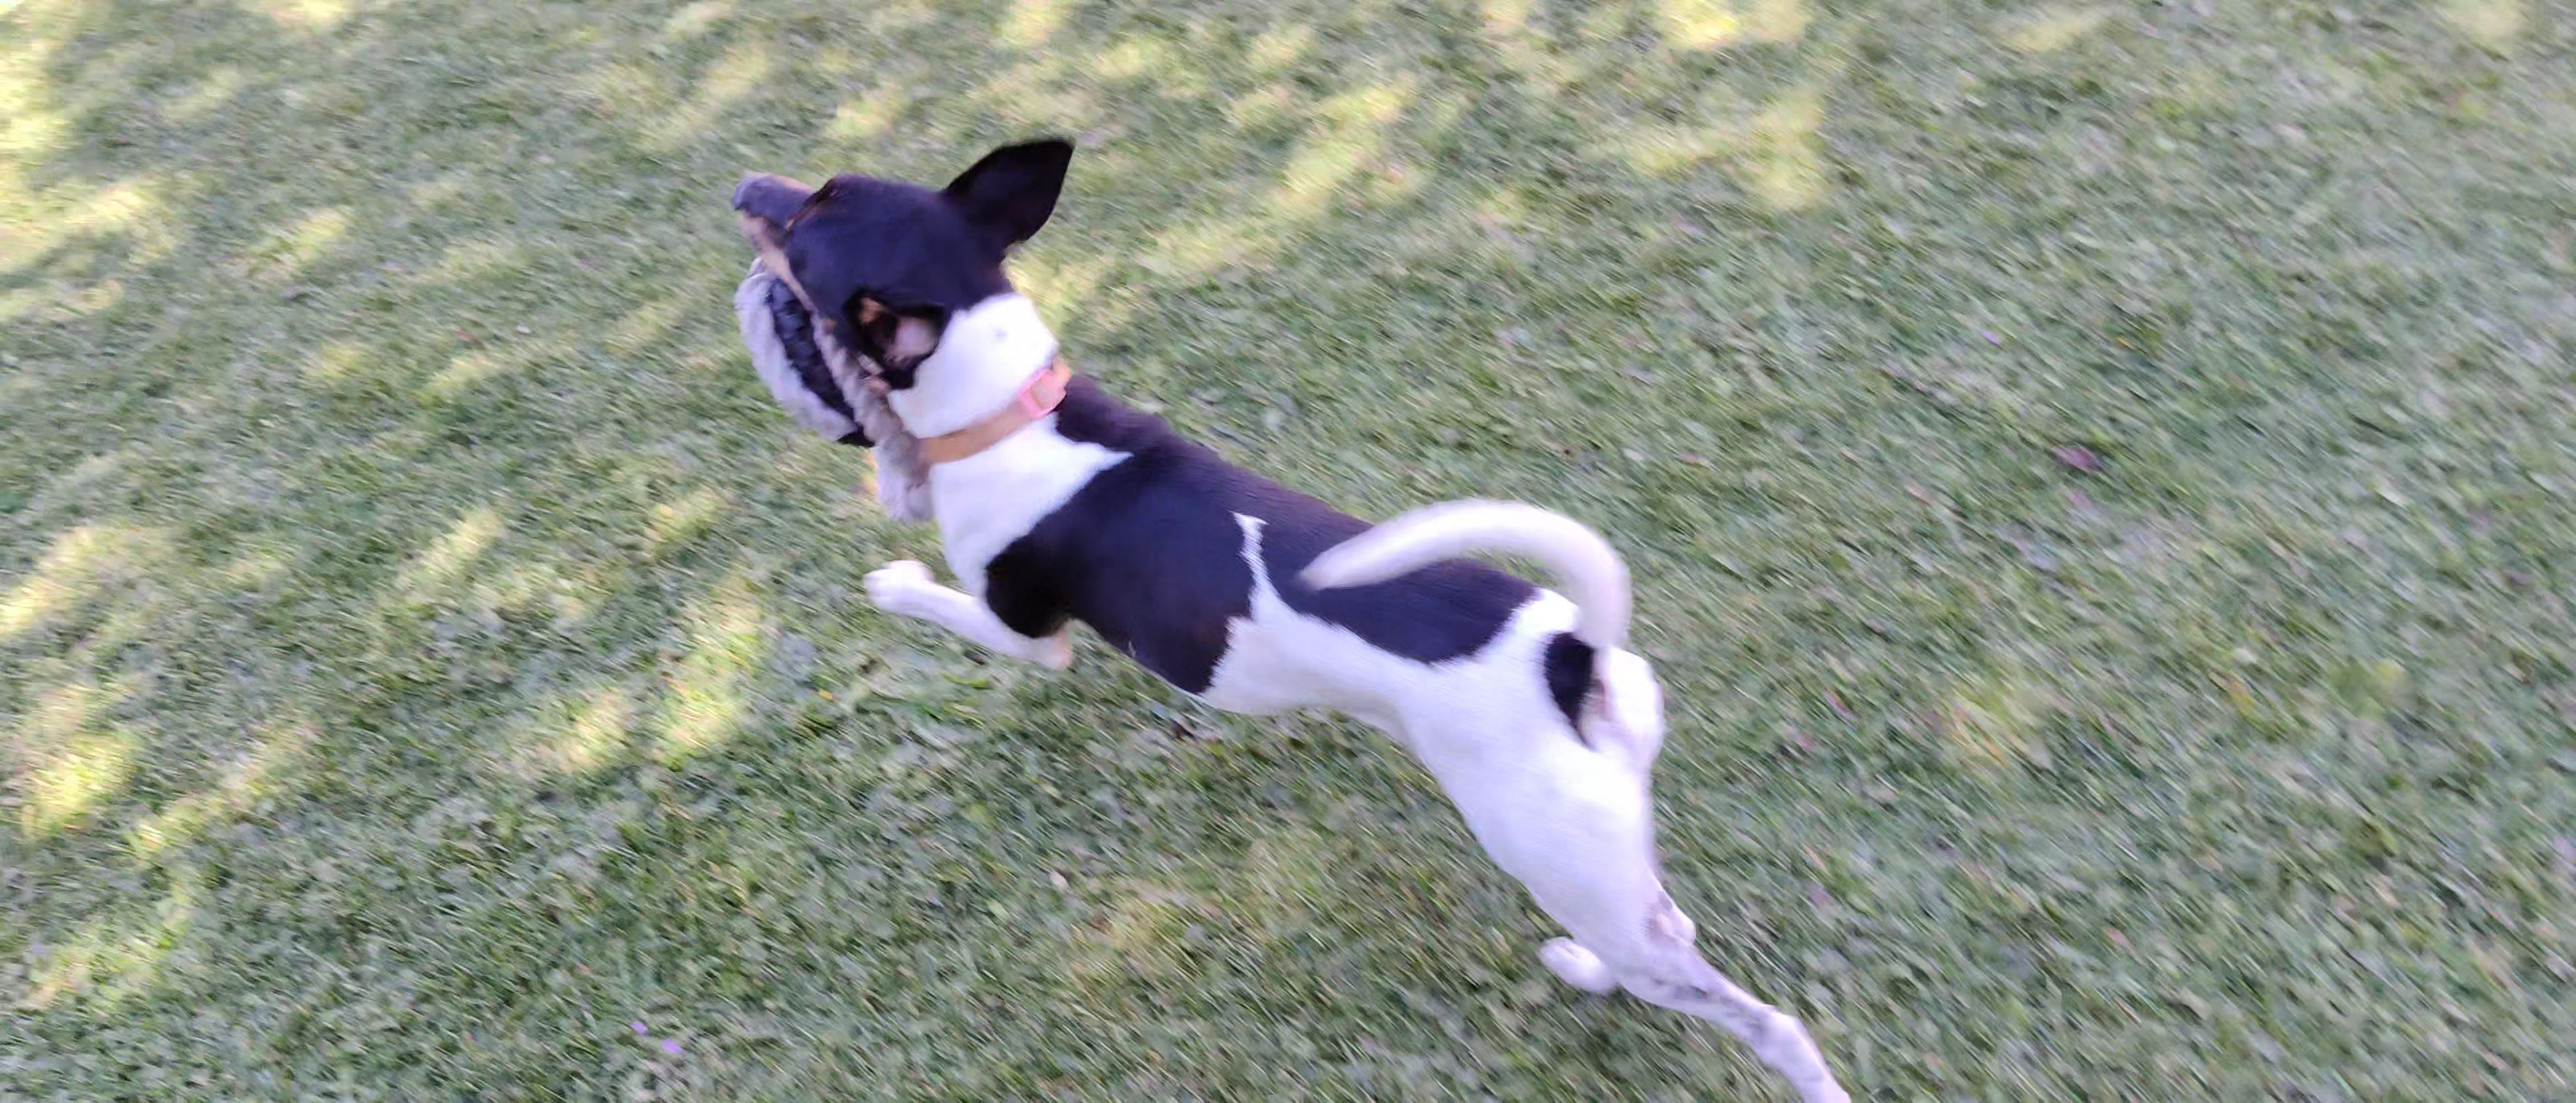Dog: (711, 97, 1866, 1103)
